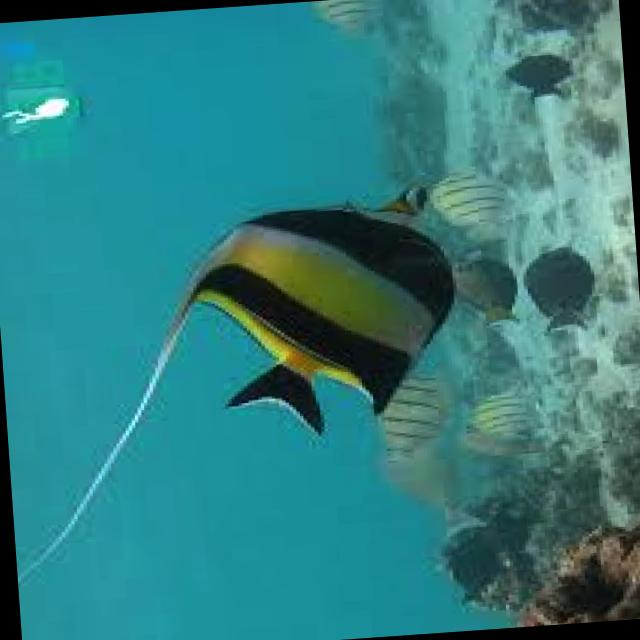MorishIdol: (0, 179, 474, 577)
